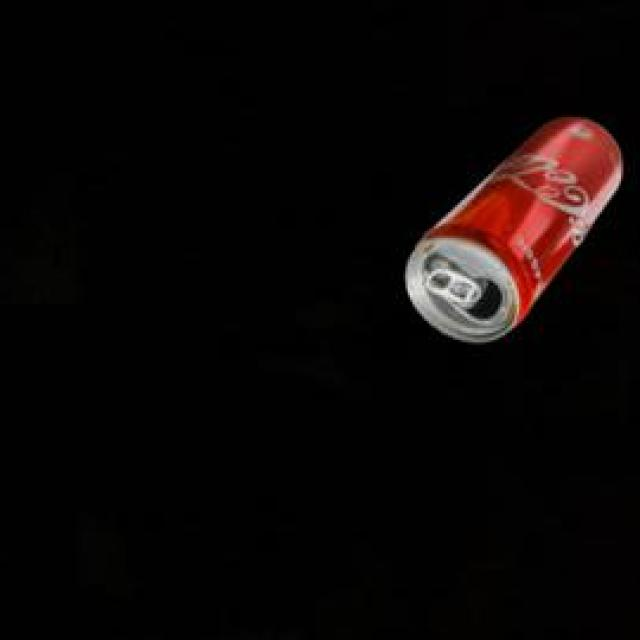logam: (409, 113, 625, 338)
